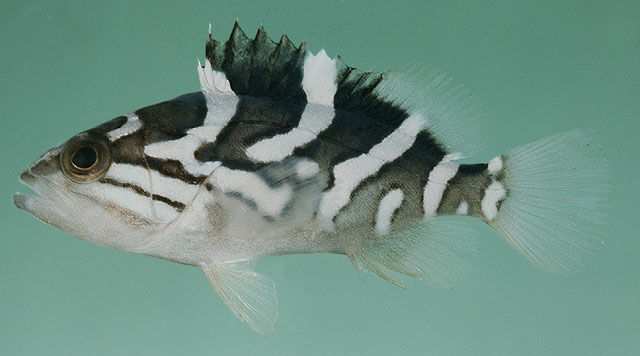fish: (12, 16, 613, 336)
